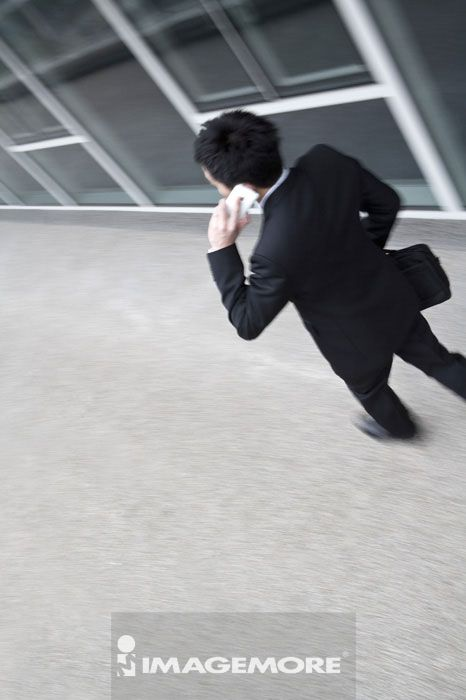phone: (222, 186, 259, 222)
